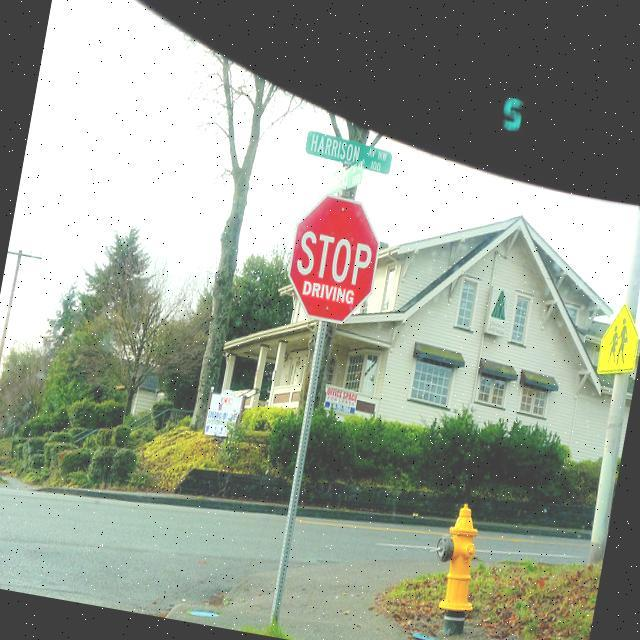fire_hydrant: (420, 498, 490, 638)
